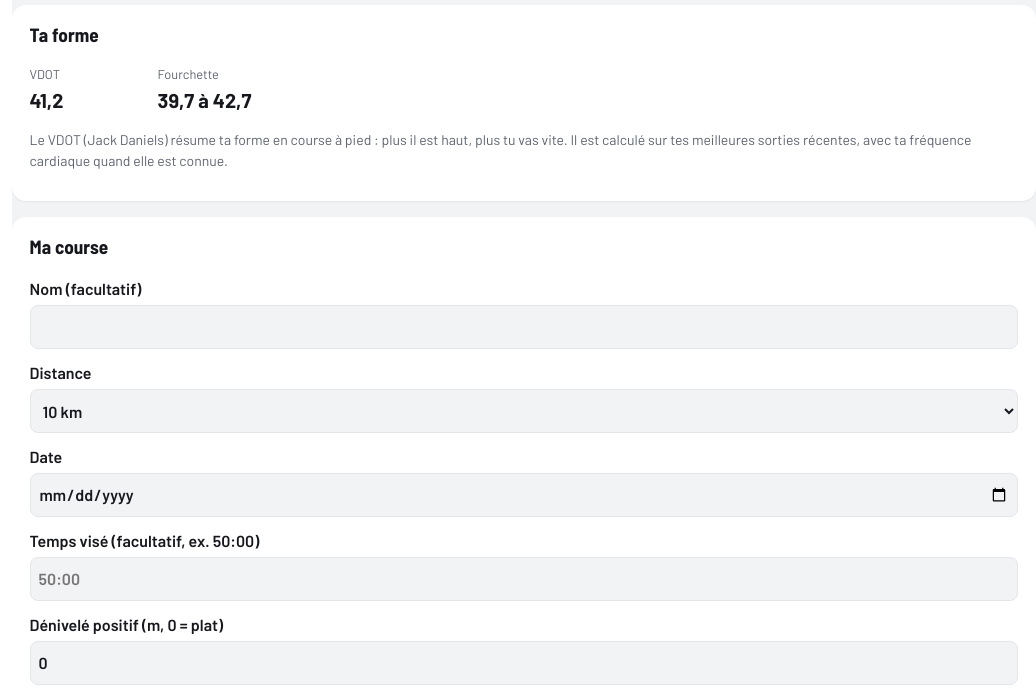
Scenario: RacePage › saves the target race and shows its plan and feasibility
This screenshot has width=1036, height=689.
Type "2026-12-13" into the date field labelled "Date".
click(524, 495); type("2026-12-13")  # box [30,473,1018,517]
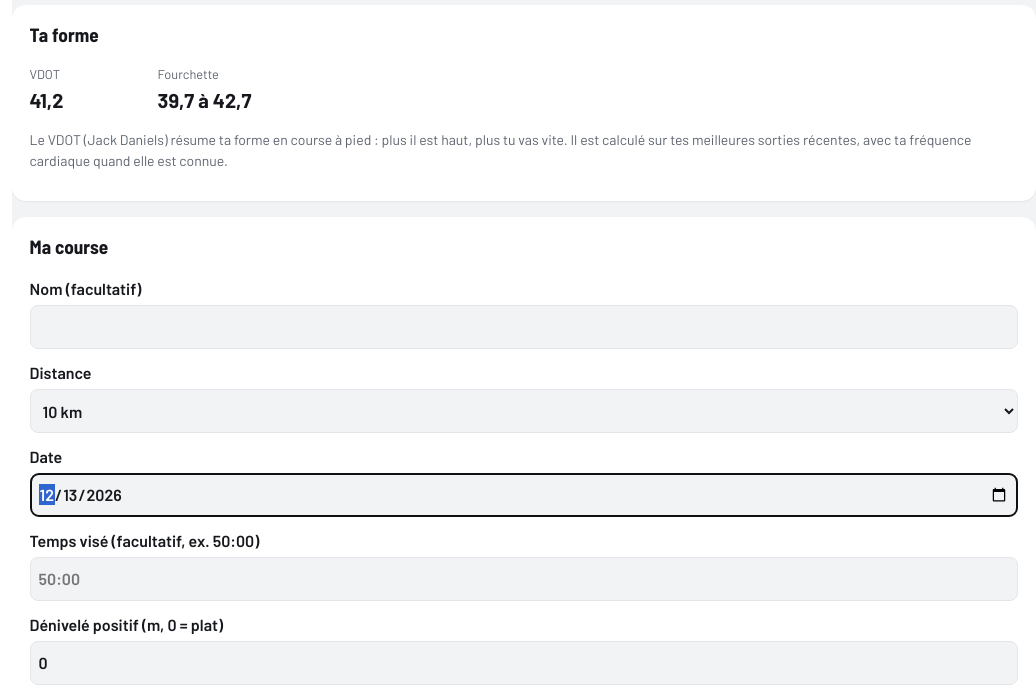
Type "49:59" into the field labelled "Temps visé (facultatif, ex. 50:00)".
click(524, 579); type("49:59")  # box [30,557,1018,601]
(page scrolled)
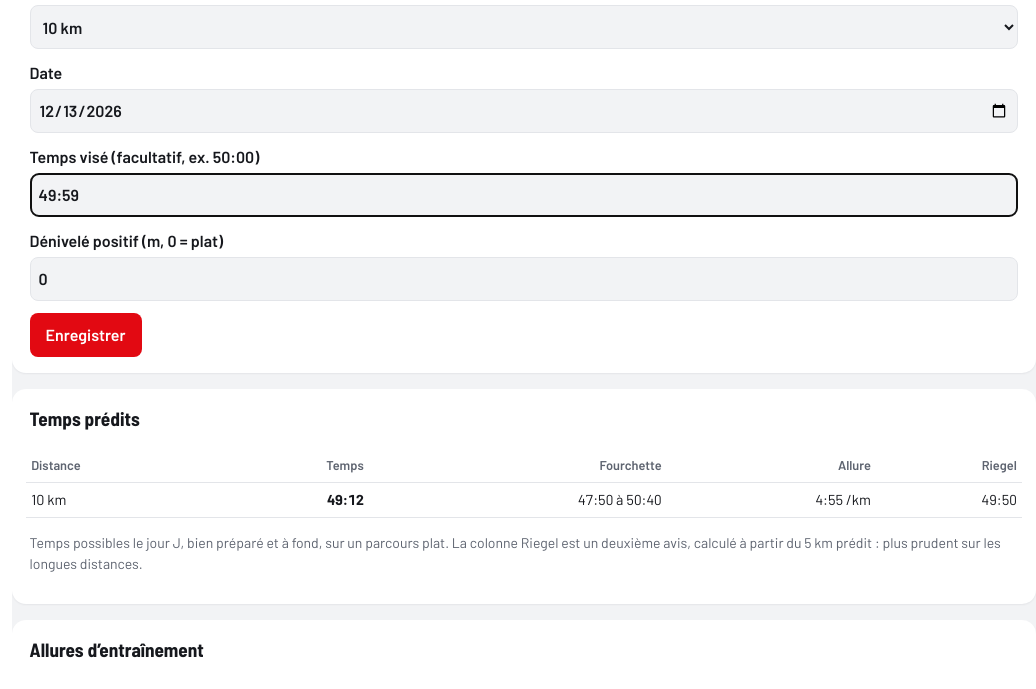
Click the button "Enregistrer".
click(86, 335)  # box [30,313,142,357]
(page scrolled)
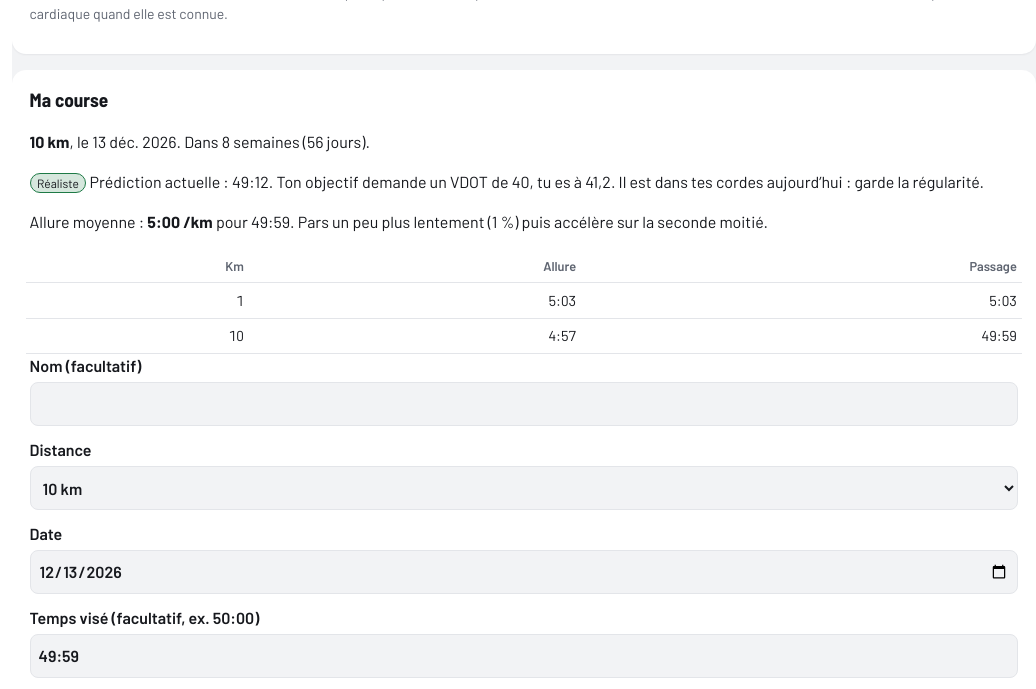
Expected: the element named "Plan de course" shows "Dans 8 semaines (56 jours).", [184,132,370,151]
Expected: the element named "Plan de course" shows "Réaliste", [37,176,79,190]
Expected: the element named "Plan de course" shows "Ton objectif demande un VDOT de 40, tu es à 41,2.", [276,172,615,191]
